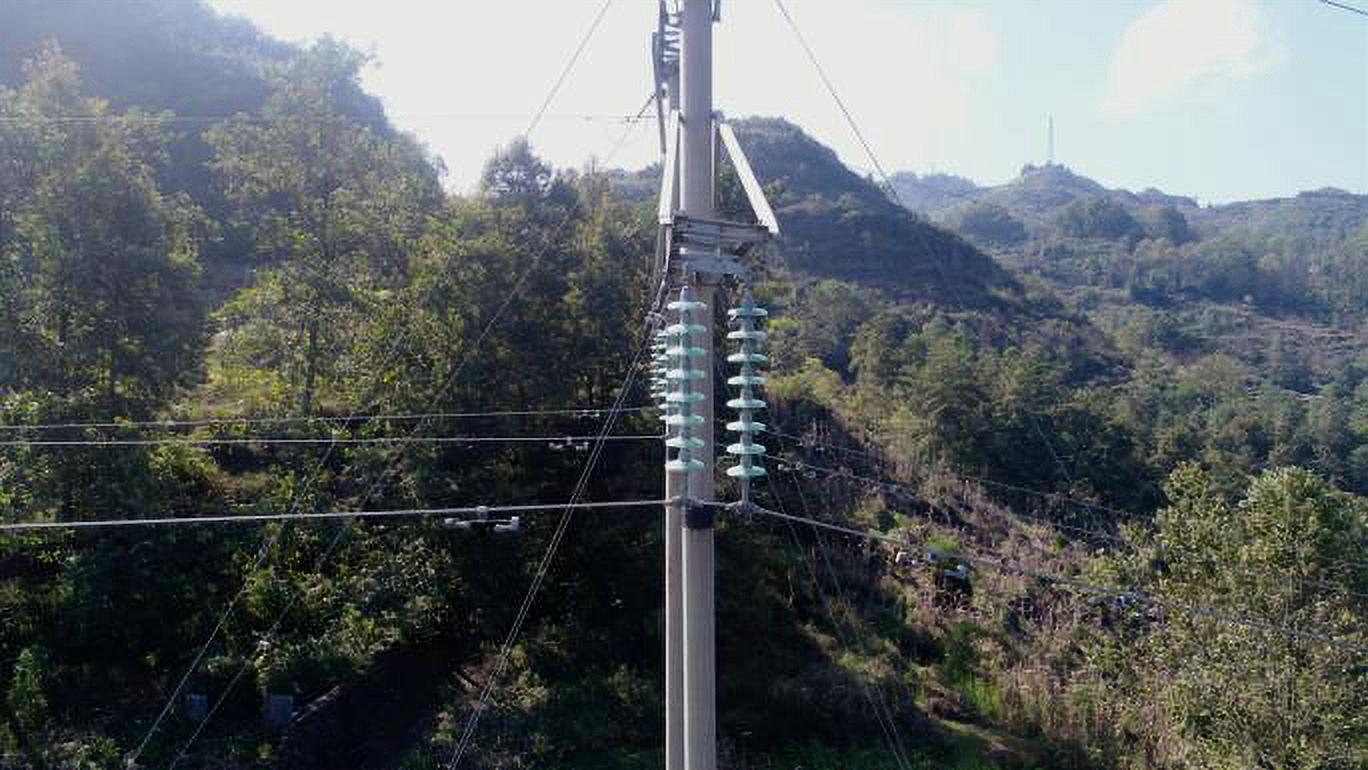insulator: (660, 296, 711, 479), (723, 303, 771, 483)
